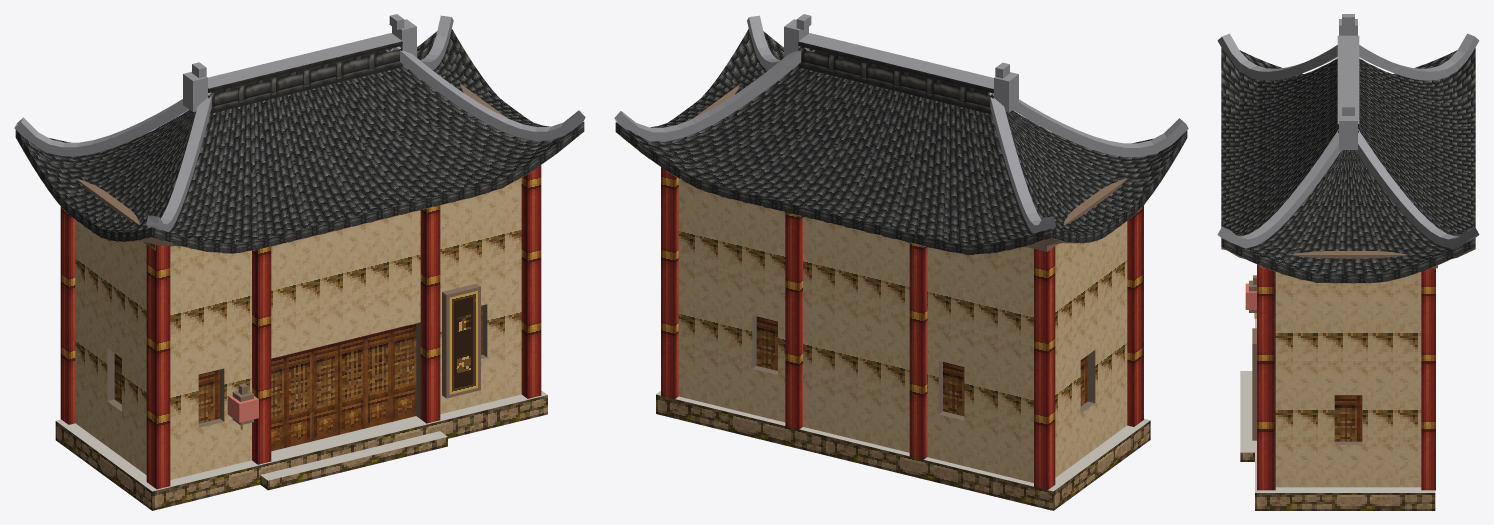
The model's file is b_hall.glb.
3 views of the same model, side by side, from view 1: azimuth 30°, elevation 25°; view 2: azimuth 150°, elevation 25°; view 3: azimuth 270°, elevation 25° (orthographic). The views are drawn at different scales.
Parts seen in each view (by area): view 1: plaster, roof, post, door, ridgeend, stone, stonetop, eave, ridge, vsign, wood, reveal (+3 smaller); view 2: plaster, roof, post, ridgeend, stone, eave, ridge, win, stonetop, reveal, wood, under; view 3: roof, plaster, ridgeend, post, stone, eave, stonetop, wood, win.
Boxes of the visible parts, left/top/right/bottom form: plaster: left=75, top=178, right=521, bottom=479; roof: left=18, top=29, right=583, bottom=244; post: left=60, top=165, right=541, bottom=489; door: left=271, top=323, right=416, bottom=451; ridgeend: left=14, top=14, right=585, bottom=231; stone: left=55, top=395, right=547, bottom=510; stonetop: left=56, top=390, right=547, bottom=491; eave: left=15, top=122, right=584, bottom=253; ridge: left=208, top=41, right=402, bottom=113; vsign: left=449, top=291, right=477, bottom=394; wood: left=76, top=83, right=506, bottom=425; reveal: left=107, top=304, right=487, bottom=427; plaster: left=678, top=179, right=1127, bottom=482; roof: left=616, top=29, right=1184, bottom=245; post: left=661, top=167, right=1143, bottom=490; ridgeend: left=614, top=14, right=1188, bottom=233; stone: left=656, top=394, right=1150, bottom=510; eave: left=615, top=122, right=1187, bottom=255; ridge: left=798, top=41, right=993, bottom=114; win: left=756, top=316, right=1087, bottom=416; stonetop: left=656, top=391, right=1150, bottom=491; reveal: left=752, top=315, right=1095, bottom=420; wood: left=692, top=85, right=1127, bottom=251; under: left=616, top=132, right=1186, bottom=255; roof: left=1221, top=48, right=1475, bottom=274; plaster: left=1275, top=272, right=1421, bottom=487; ridgeend: left=1217, top=14, right=1479, bottom=248; post: left=1257, top=264, right=1435, bottom=490; stone: left=1240, top=452, right=1435, bottom=510; eave: left=1221, top=238, right=1475, bottom=283; stonetop: left=1240, top=318, right=1435, bottom=492; wood: left=1249, top=251, right=1437, bottom=440; win: left=1334, top=395, right=1362, bottom=441.
Bounding box in the file's own units: 71.1 × 59.49 × 39.32.
Materials: 17 (10 with a texture image).
